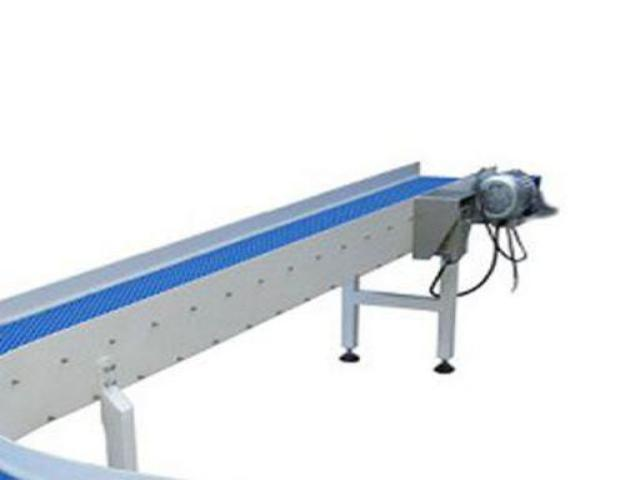conveyor: (0, 153, 491, 458)
